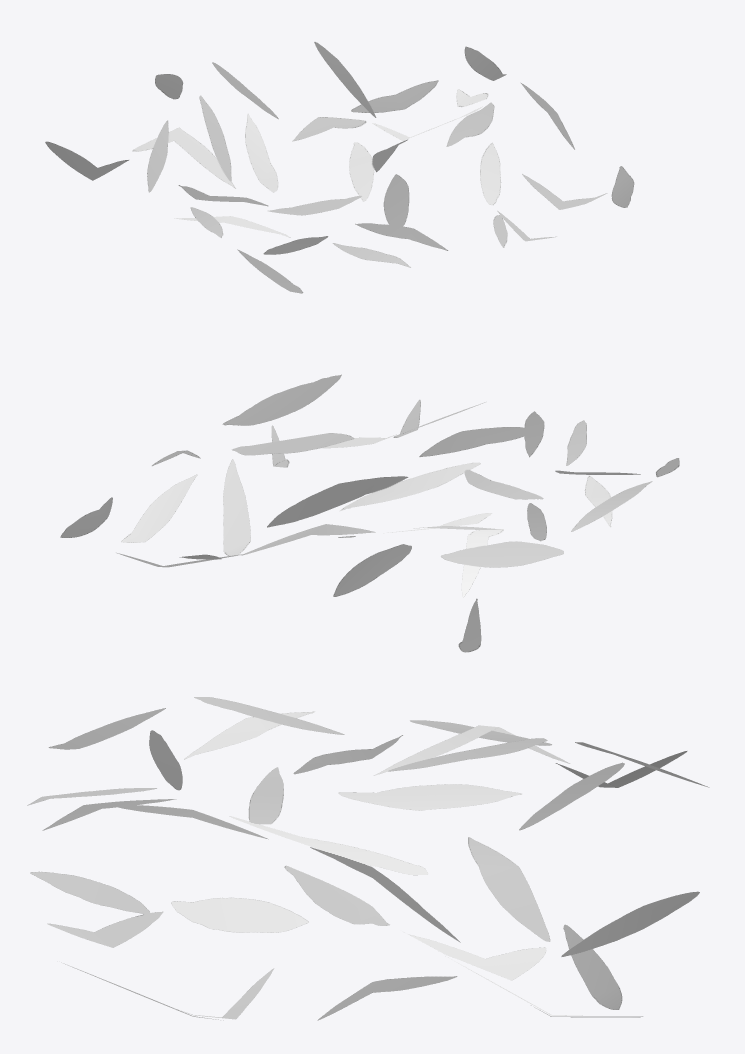
File: bamboo_floor_model.FBX
3 views of the same model, one above another, from view 1: azimuth 30°, elevation 25°; view 2: azimuth 150°, elevation 25°; view 3: azimuth 270°, elevation 25° (orthographic). The views are drawn at different scales.
Parts seen in each view (by area): view 1: Plane001; view 2: Plane001; view 3: Plane001.
Boxes of the visible parts, box(x1,y1,x2,y2) form: Plane001: box(45, 42, 634, 293); Plane001: box(60, 374, 679, 652); Plane001: box(27, 697, 709, 1020).
Bounding box in the file's own units: 32.89 × 6.56 × 32.89.
